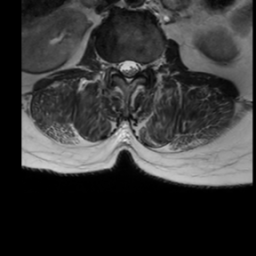CCS_normal: (124, 50, 132, 90)
LFS_stenosis: (142, 52, 149, 77)
LLS_normal: (132, 52, 141, 78)
RFS_stenosis: (106, 52, 116, 76)
RLS_normal: (116, 52, 124, 79)
